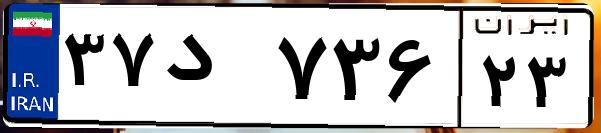2: (475, 38, 525, 113)
3: (330, 28, 385, 110), (57, 26, 110, 100), (525, 38, 570, 115)
6: (385, 28, 445, 110)
7: (270, 28, 330, 110), (110, 28, 158, 98)
د: (158, 20, 270, 120)
